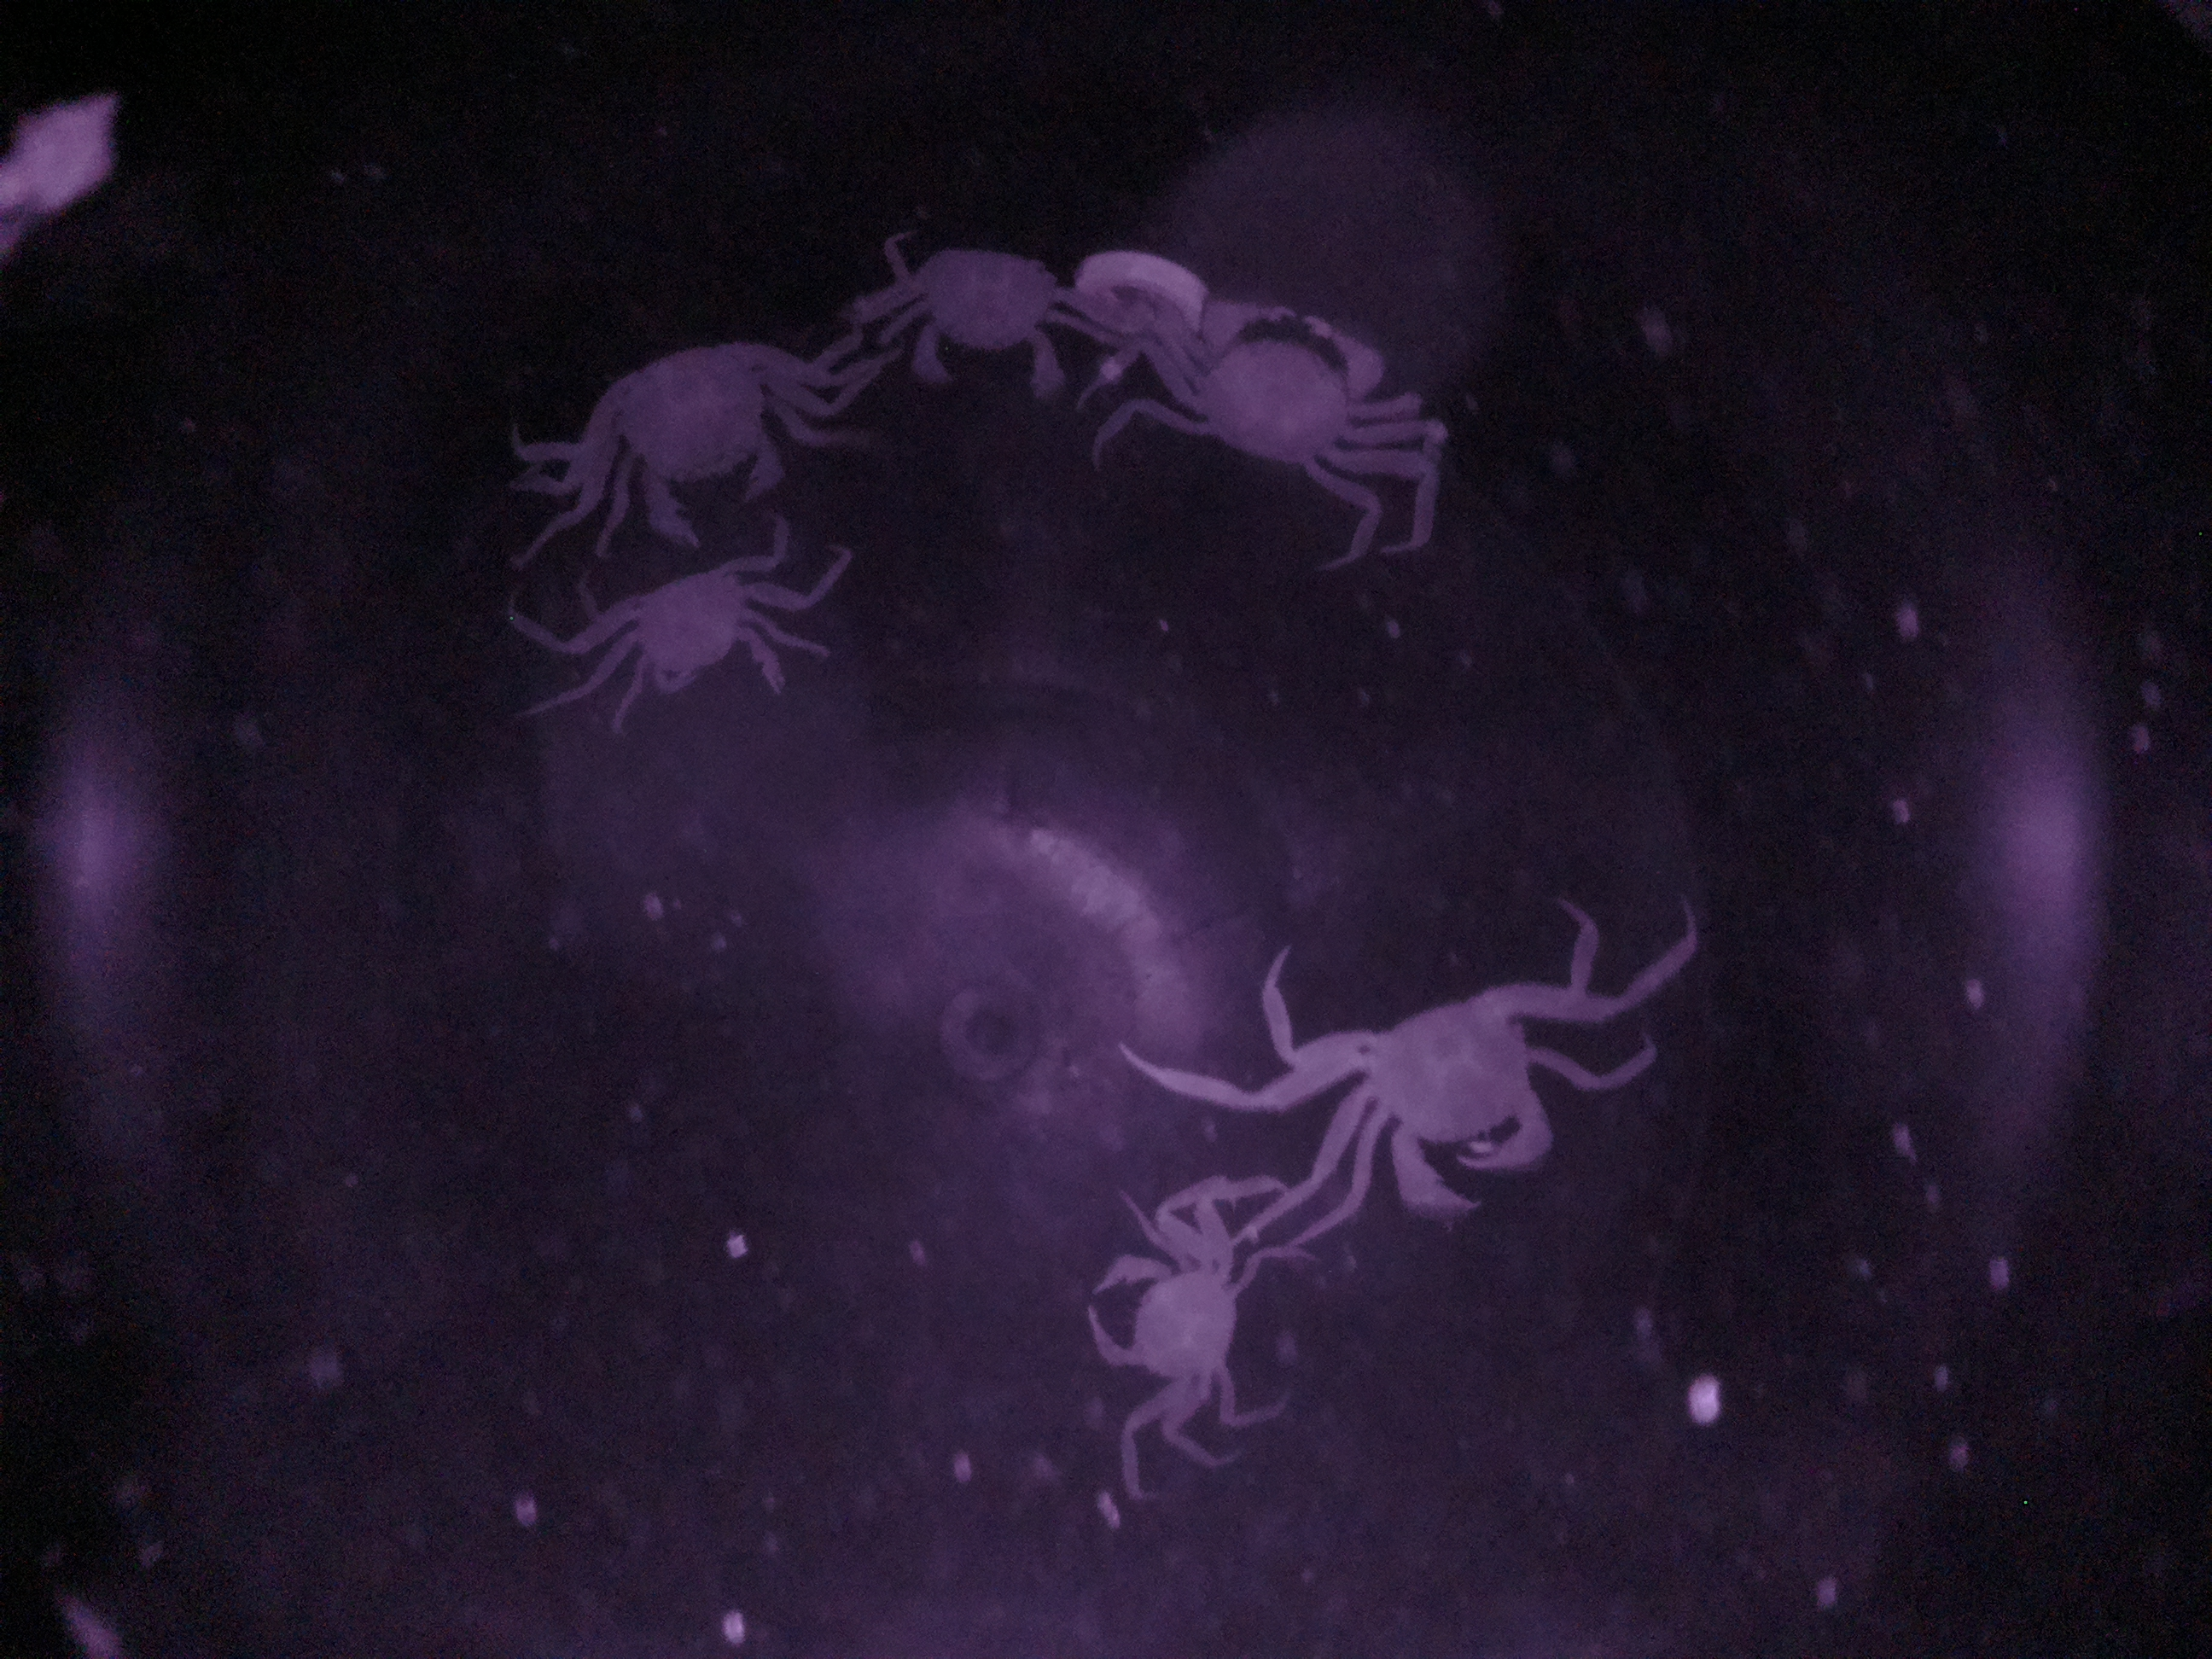Crab: (1291, 967, 1573, 1216), (610, 312, 808, 579), (1165, 279, 1392, 505), (1073, 1218, 1277, 1436), (589, 552, 796, 755), (867, 232, 1075, 423)
